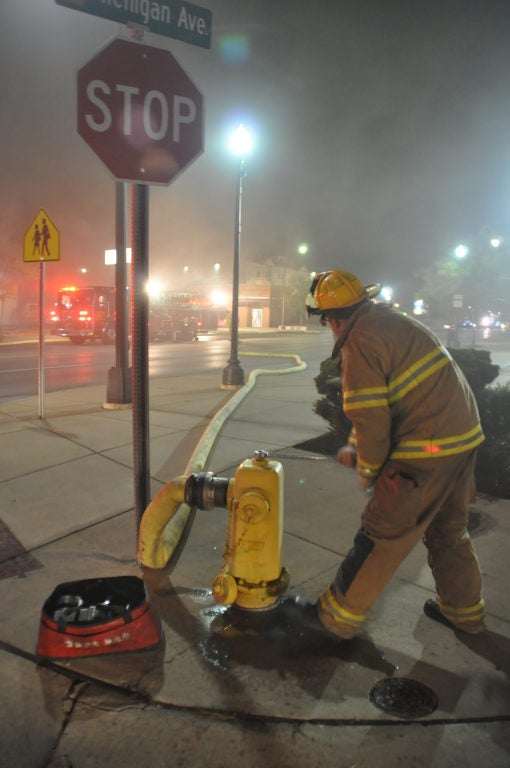stop: (78, 41, 207, 184), (79, 40, 209, 143), (77, 42, 171, 182), (76, 41, 148, 182)
